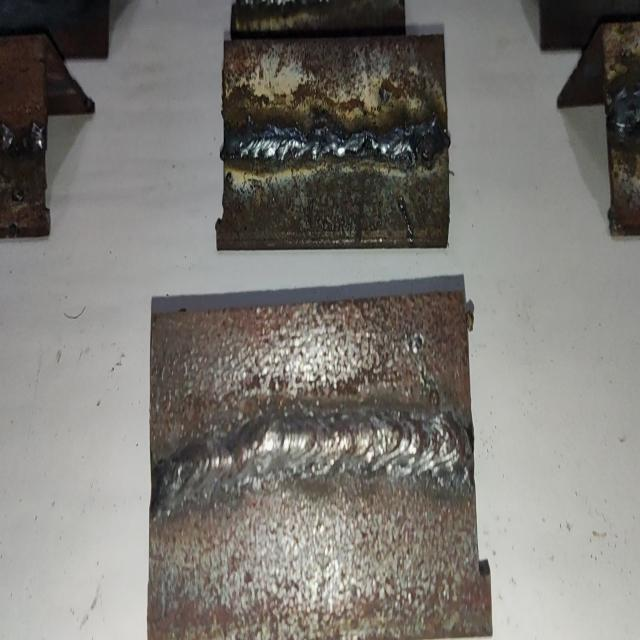Defect: (404, 108, 449, 174), (0, 120, 48, 160)
Welding Line: (152, 412, 470, 520), (225, 110, 447, 166), (0, 124, 47, 162)
Workpiece: (147, 294, 489, 640), (220, 30, 448, 250), (0, 35, 54, 239), (607, 12, 640, 244)
